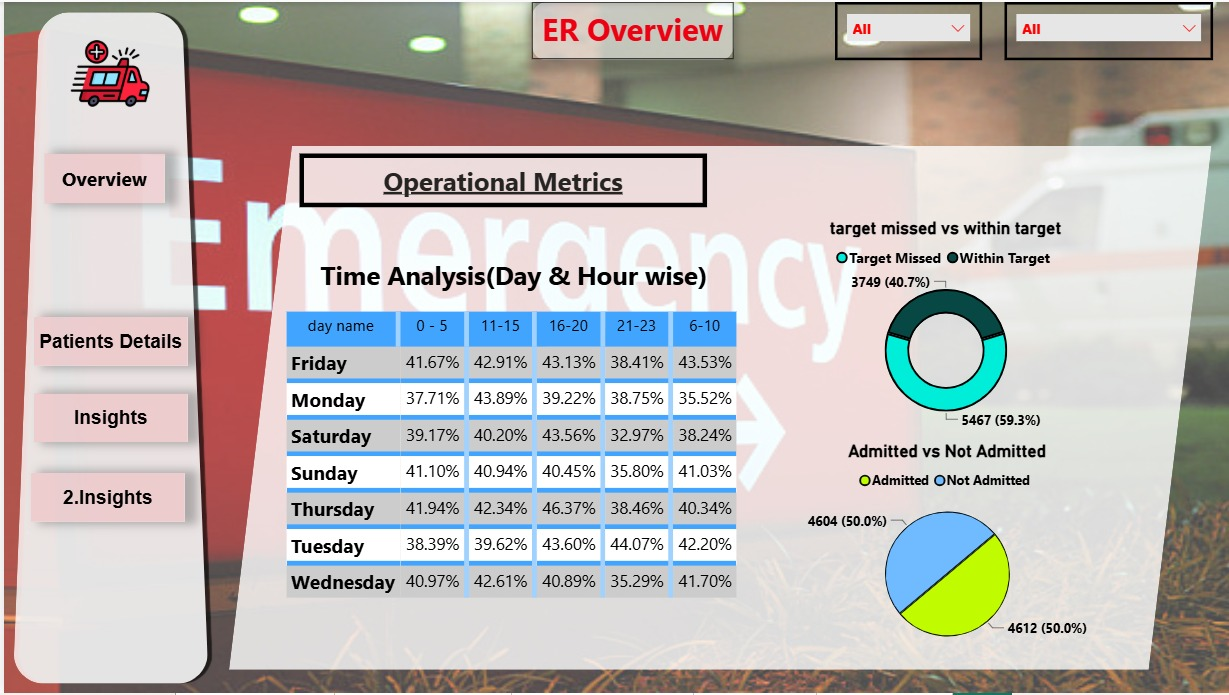

Layout of this report page (visuals, bound fields, positions):
{"tool":"powerbi","page":{"name":"2.ER Overview","canvas":[1280,720],"ordinal":1},"visuals":[{"type":"shape","box":[2.9,4.3,216,711.4],"z":0},{"type":"shape","box":[234.7,149.8,1023.8,545.8],"z":1000},{"type":"donutChart","title":" Admitted vs Not Admitted","fields":{"Category":["Hospital ER_Hospital ER.Admitted vs Not Admitted"],"Y":["CountNonNull(Hospital ER_Hospital ER.Patient Id)"]},"box":[779.1,457.4,408.7,226.1],"z":2000},{"type":"donutChart","title":"target missed vs within target","fields":{"Category":["Hospital ER_Hospital ER.Target Status"],"Y":["CountNonNull(Hospital ER_Hospital ER.Patient Id)"]},"box":[777.4,224.3,408.7,224.3],"z":3000},{"type":"pivotTable","fields":{"Rows":["Hospital ER_Hospital ER.day  name"],"Columns":["Hospital ER_Hospital ER.hour (groups)"],"Values":["_Measure Table.% of patients"]},"box":[288.7,316.5,485,313],"z":4000},{"type":"textbox","box":[318.2,260.6,424.8,46.1],"z":5000},{"type":"textbox","box":[308.2,158.4,424.8,56],"z":6000},{"type":"shape","box":[550,0,210.4,60.9],"z":7000},{"type":"textbox","box":[550,0,210.2,59],"z":8000},{"type":"image","box":[60.5,27.4,99.4,92.2],"z":9000},{"type":"actionButton","title":"2.Overview","box":[41.7,158.3,125.2,52.2],"z":10000},{"type":"actionButton","title":"2.Overview","box":[31.7,328.3,159.8,50.4],"z":11000},{"type":"actionButton","title":"2.Overview","box":[31.3,408.7,160,50.4],"z":12000},{"type":"actionButton","title":"2.Overview","box":[27.8,490.4,160,50.4],"z":13000},{"type":"slicer","fields":{"Values":["Hospital ER_Hospital ER.day"]},"box":[866.1,0,153,60.9],"z":14000},{"type":"slicer","fields":{"Values":["Hospital ER_Hospital ER.month"]},"box":[1041.7,0,217.4,60.9],"z":15000}]}

Visuals, with their boxes in screenshot pixels (x1, y1, x2, y2), scaled from the page's 1280x720 canvas onto the 1229x695 screenshot:
shape: 3/4/210/691
shape: 225/145/1208/671
" Admitted vs Not Admitted" donutChart: 748/442/1140/660
"target missed vs within target" donutChart: 746/217/1139/433
pivotTable - Hospital ER_Hospital ER.day  name x Hospital ER_Hospital ER.hour (groups): 277/306/743/608
textbox: 306/252/713/296
textbox: 296/153/704/207
shape: 528/0/730/59
textbox: 528/0/730/57
image: 58/26/154/115
"2.Overview" actionButton: 40/153/160/203
"2.Overview" actionButton: 30/317/184/366
"2.Overview" actionButton: 30/395/184/443
"2.Overview" actionButton: 27/473/180/522
slicer - Hospital ER_Hospital ER.day: 832/0/978/59
slicer - Hospital ER_Hospital ER.month: 1000/0/1209/59
